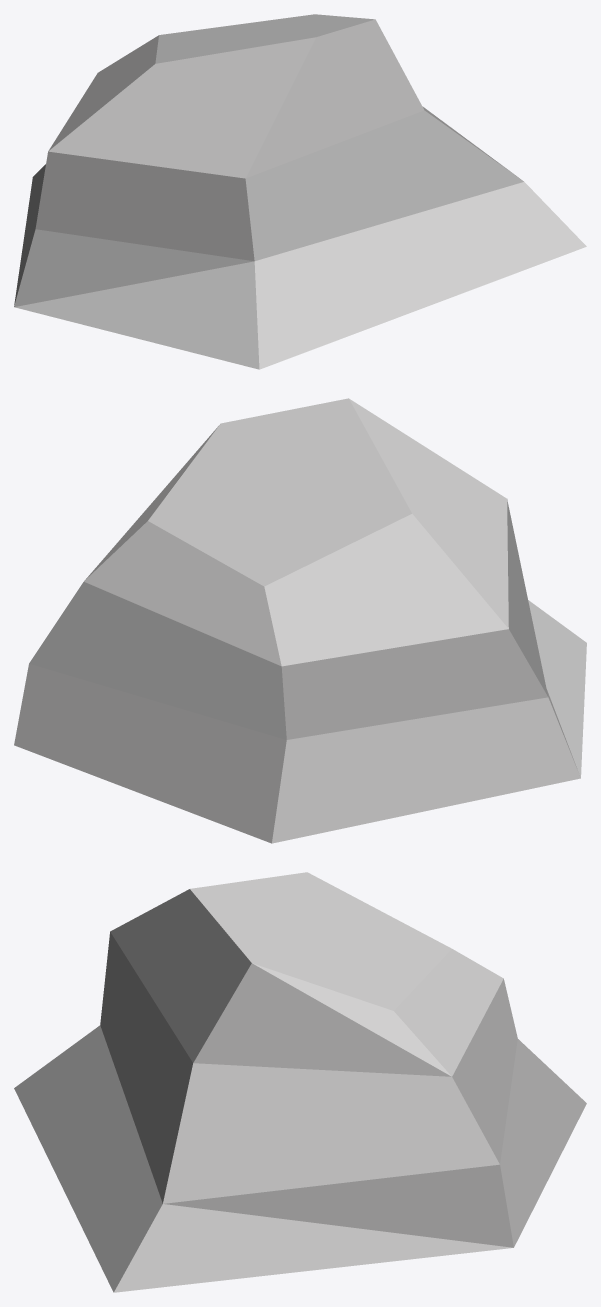
The model's file is Icemound1_Alt1.fbx.
The picture shows the model from 3 angles, top to bottom: view 1: azimuth 30°, elevation 25°; view 2: azimuth 150°, elevation 25°; view 3: azimuth 270°, elevation 25°; orthographic projection. The views are drawn at different scales.
Parts seen in each view (by area): view 1: Icemound1_Alt1; view 2: Icemound1_Alt1; view 3: Icemound1_Alt1.
Part boxes in pixels (x1,y1,x2,y2): Icemound1_Alt1: (14, 14, 586, 369); Icemound1_Alt1: (14, 398, 586, 843); Icemound1_Alt1: (14, 872, 586, 1292).
Bounding box in the file's own units: 1.19 × 0.5615 × 1.07.
